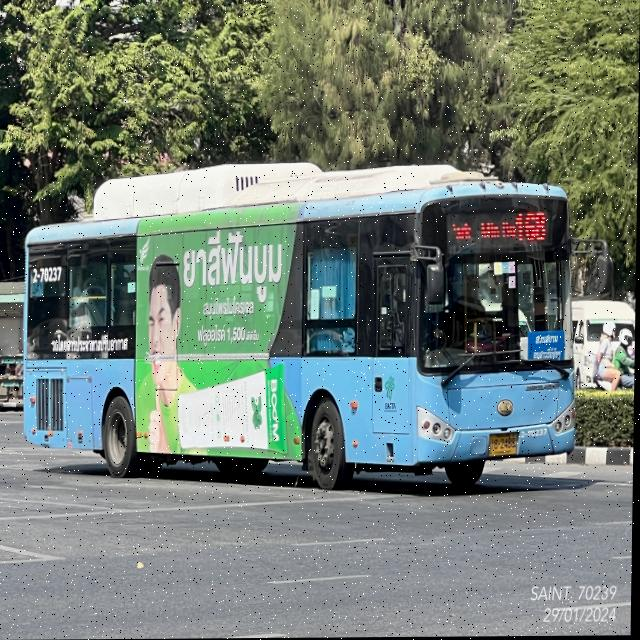BMTA-bus: (19, 163, 582, 494)
Bus-Line-Number: (516, 207, 551, 247)
Destination-Sign-Normal: (527, 329, 566, 361)
